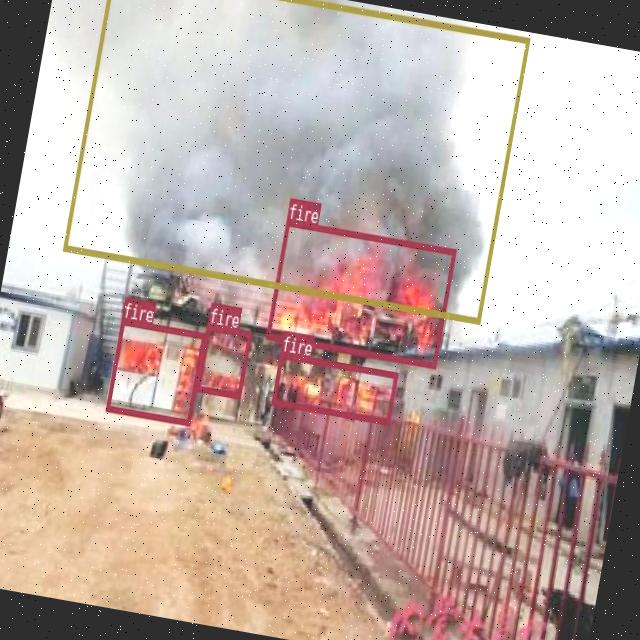fire: (265, 218, 456, 368), (105, 318, 205, 424), (270, 352, 398, 424), (195, 322, 251, 398)
smoke: (62, 0, 529, 322)
